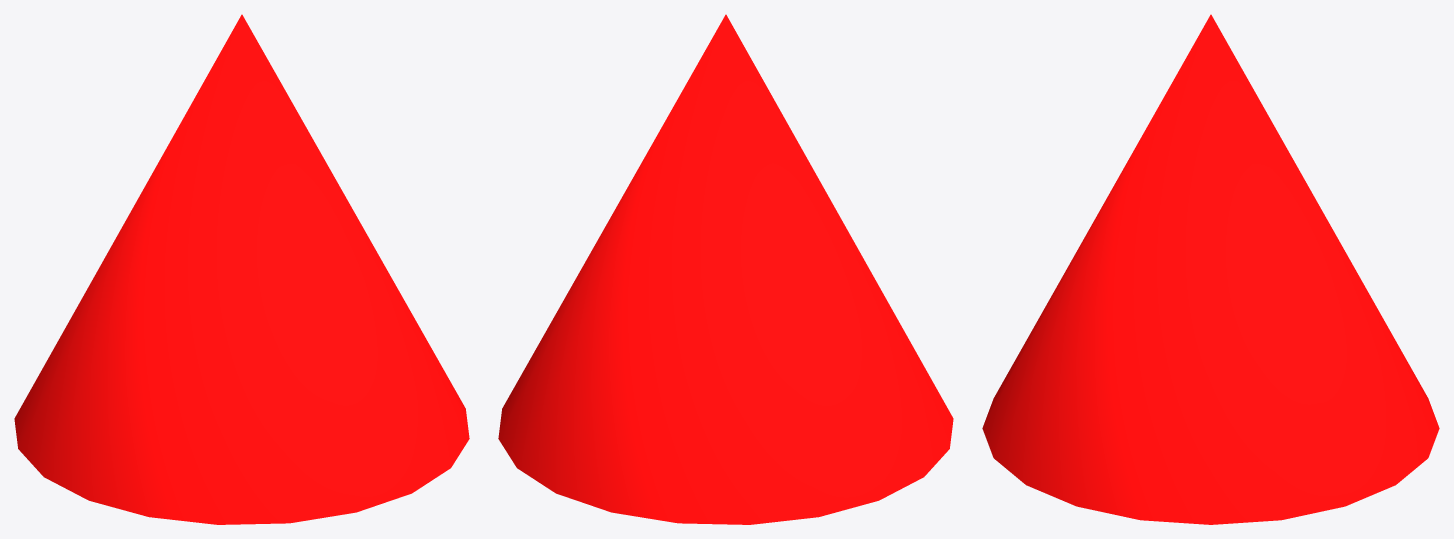
Rendered from 4d88b04c-aace-459d-88a2-565c33fa163d.glb.
The picture shows the model from 3 angles, left to right: view 1: azimuth 30°, elevation 25°; view 2: azimuth 150°, elevation 25°; view 3: azimuth 270°, elevation 25°; orthographic projection.
Visible parts, largest first — view 1: BaseCone.001; view 2: BaseCone.001; view 3: BaseCone.001.
Boxes of the visible parts, x1,y1,x2,y2 form: BaseCone.001: (14,14,469,524); BaseCone.001: (498,14,953,524); BaseCone.001: (982,14,1439,524).
Size of what is drawn, in the model's own units: 0.7487 by 0.7487 by 0.7487.
1 material, 1 textured.
